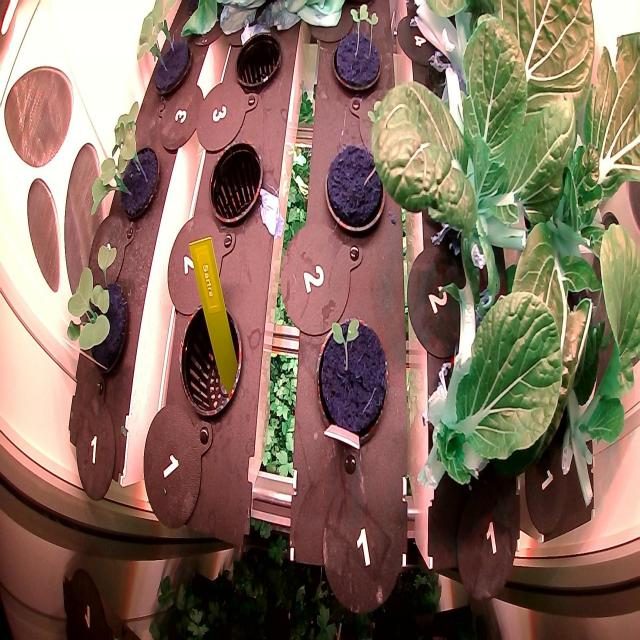empty_pod: (173, 292, 247, 423), (204, 132, 266, 232), (228, 15, 290, 105)
germination: (313, 307, 395, 461), (325, 0, 385, 100)
pod: (321, 141, 391, 241)
